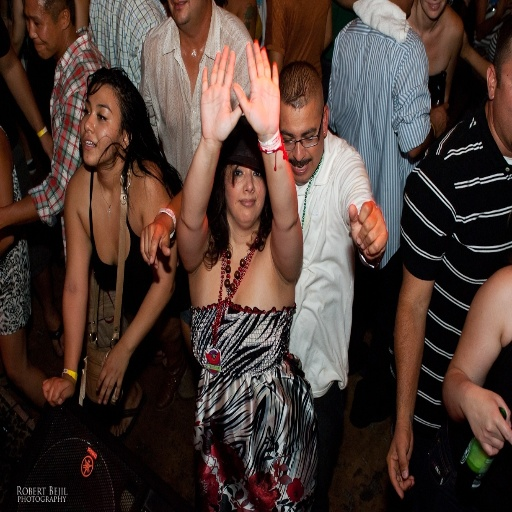hand: (231, 37, 279, 132), (199, 43, 245, 142), (463, 382, 511, 458), (347, 199, 390, 261), (385, 425, 415, 500), (94, 346, 130, 407), (140, 217, 172, 271), (38, 376, 76, 409), (430, 103, 449, 138)
